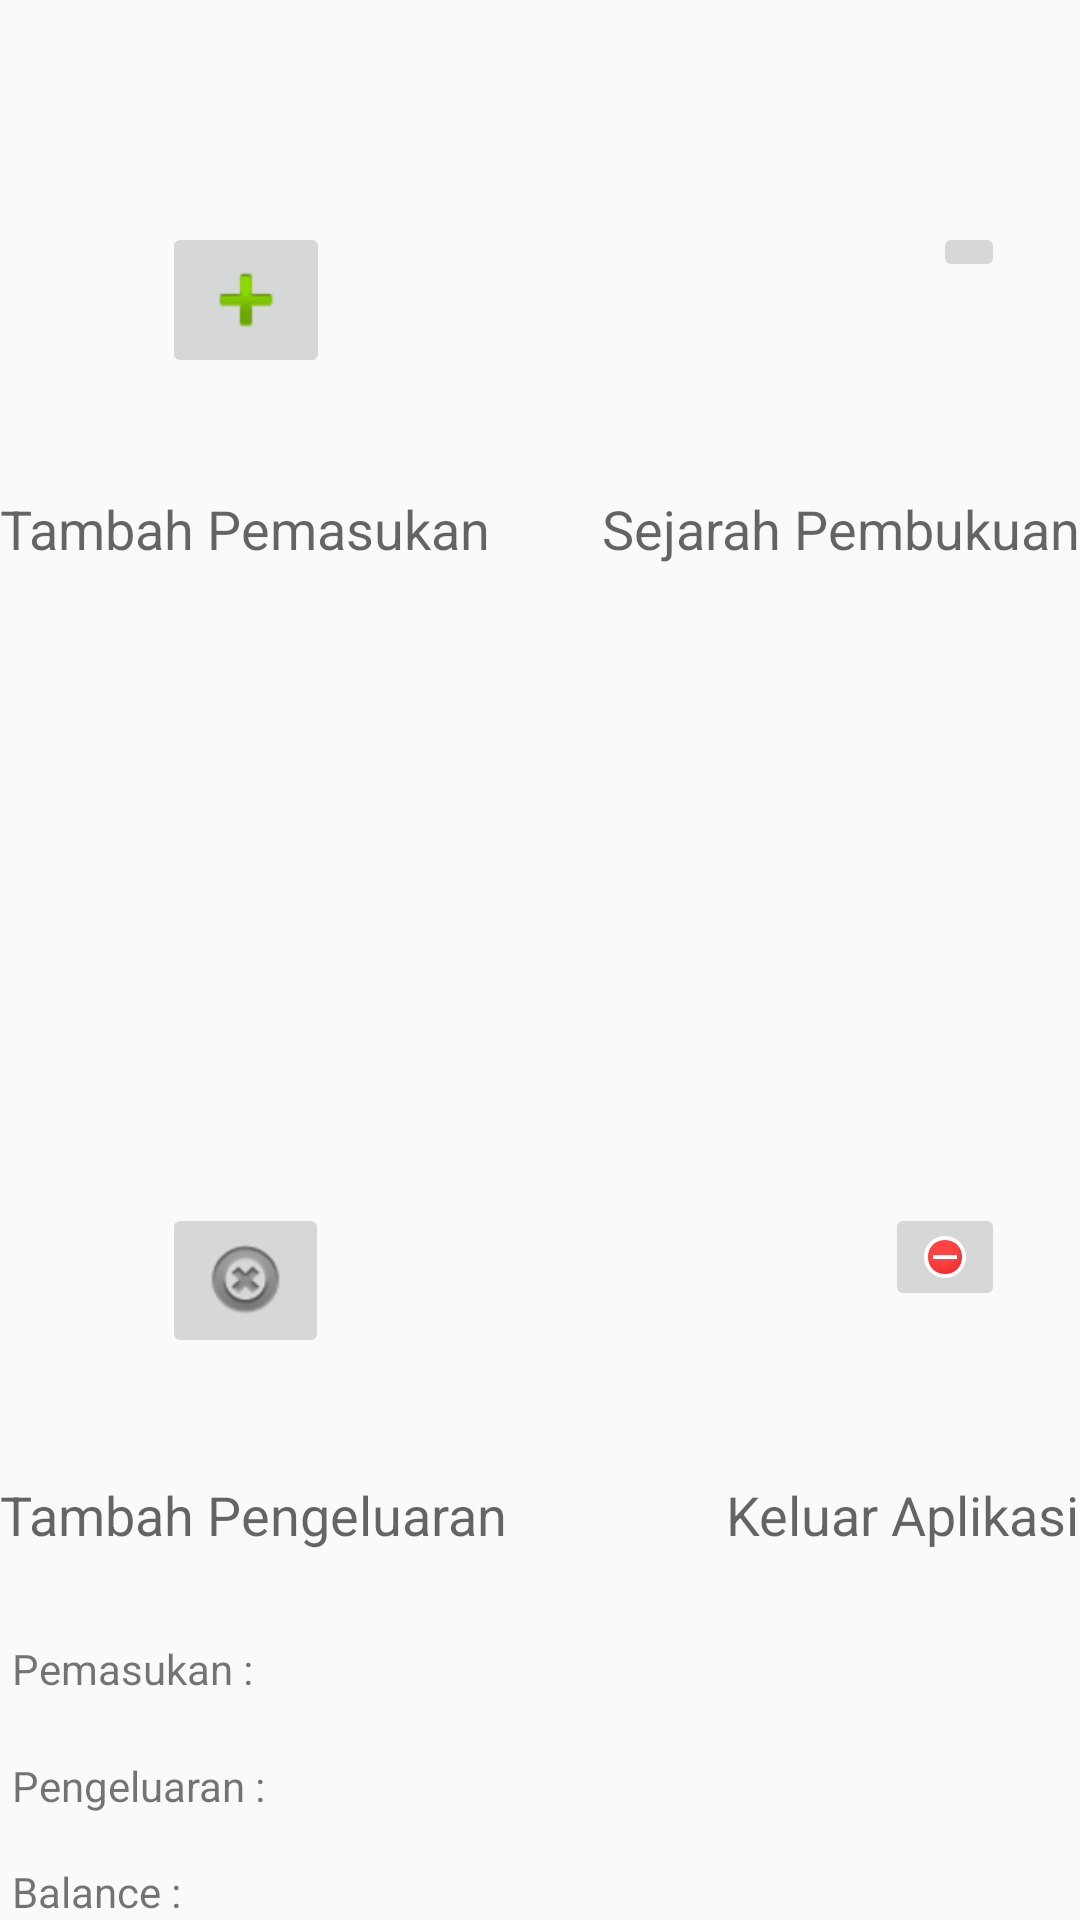

Screen size 1080×1920. Icon name, then its center in pixels as point (x, y):
add: point (246, 300)
notification clear all: point (245, 1280)
presence busy: point (945, 1257)
